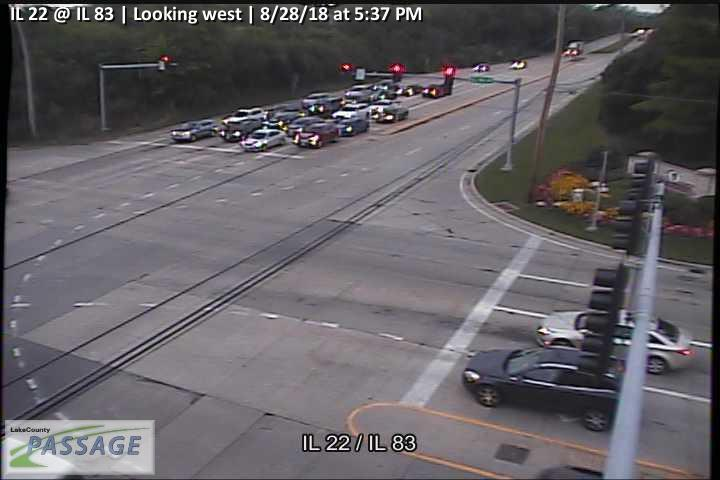SUV: (460, 347, 622, 432), (218, 117, 262, 141), (331, 102, 372, 121)
Sedan: (534, 309, 695, 373), (293, 122, 340, 148), (241, 128, 287, 152), (170, 119, 216, 142), (337, 117, 370, 136)
